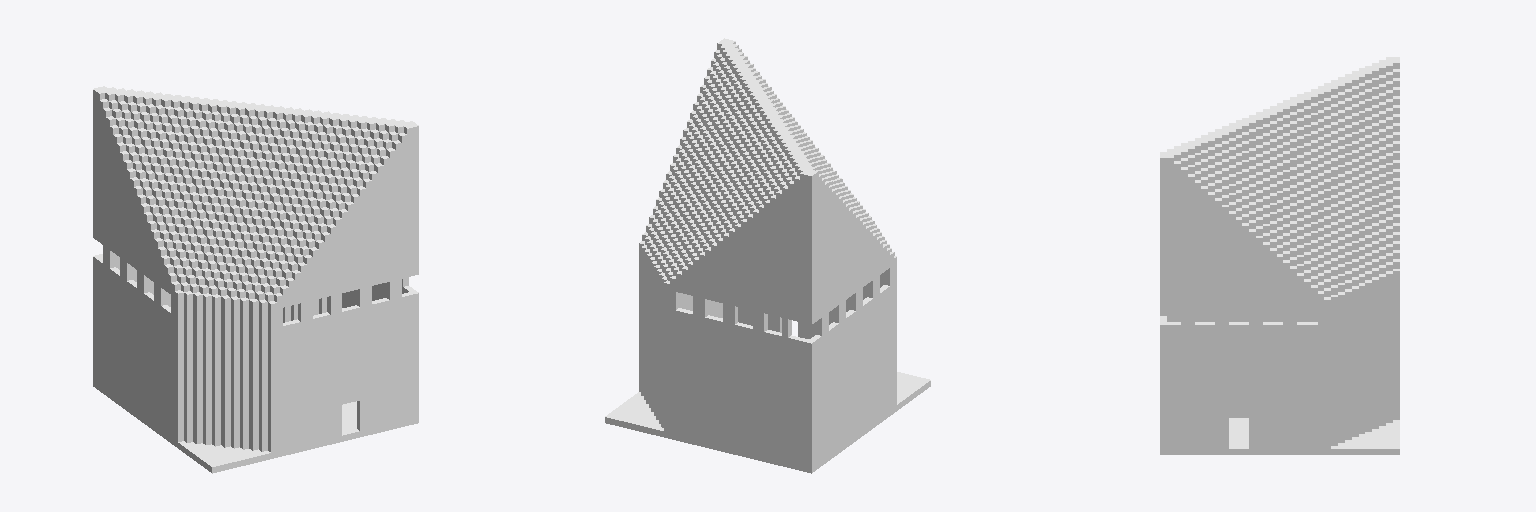
The model's file is bill_D.obj.
The picture shows the model from 3 angles: view 1: azimuth 30°, elevation 25°; view 2: azimuth 150°, elevation 25°; view 3: azimuth 270°, elevation 25°; orthographic projection.
Bounding box in the file's own units: 35 × 48 × 35.